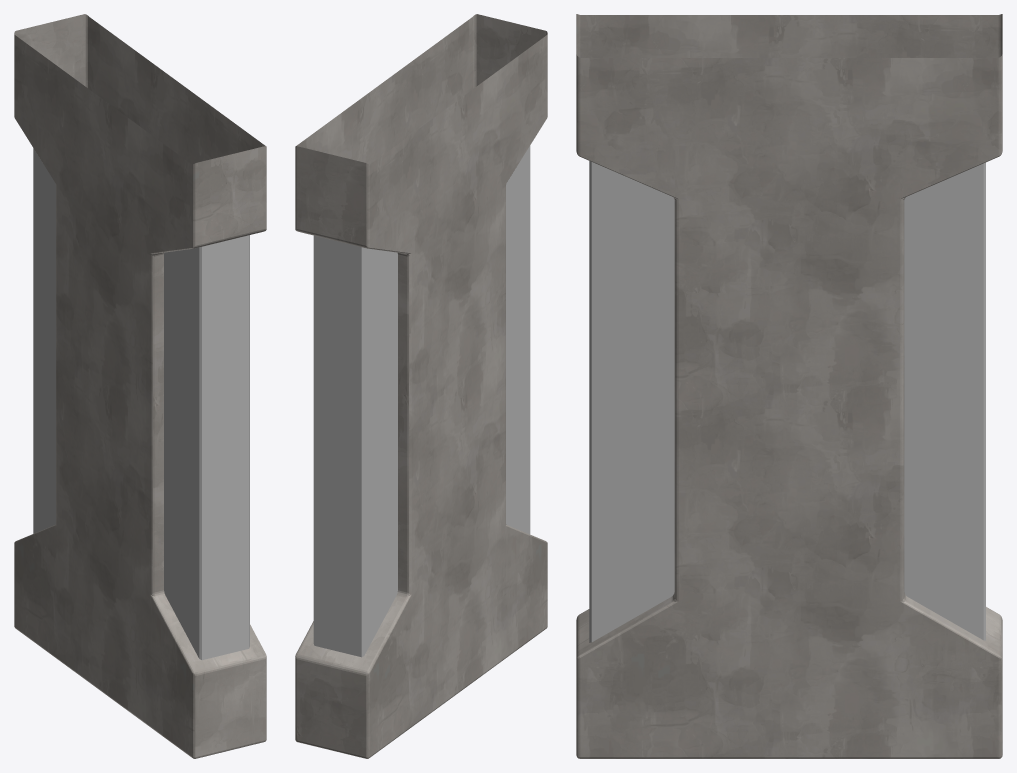
The model's file is Mesh_pillars_small.fbx.
The picture shows the model from 3 angles, left to right: view 1: azimuth 30°, elevation 25°; view 2: azimuth 150°, elevation 25°; view 3: azimuth 270°, elevation 25°; orthographic projection. The views are drawn at different scales.
Parts seen in each view (by area): view 1: MESH_pillar_small; view 2: MESH_pillar_small; view 3: MESH_pillar_small.
Part boxes in pixels (<box>): MESH_pillar_small: <box>14,14,266,758</box>; MESH_pillar_small: <box>295,14,547,758</box>; MESH_pillar_small: <box>576,14,1002,758</box>.
Size of the model in its own units: 106 by 811 by 444.
